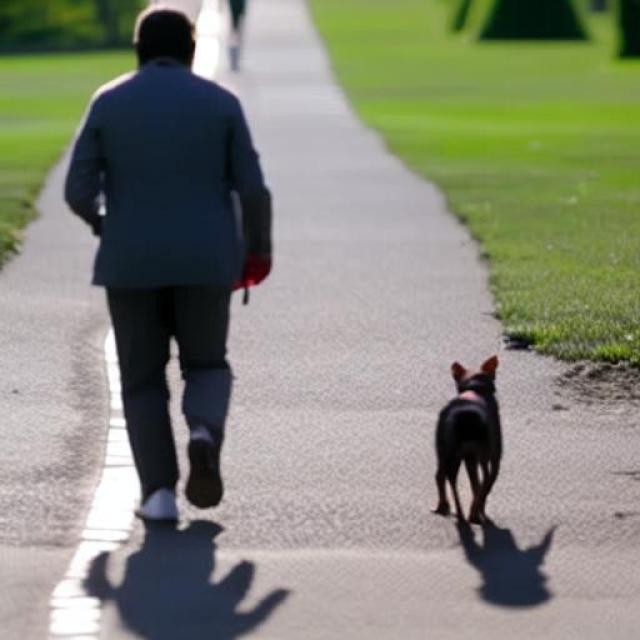Unleashed_Dog: (121, 254, 503, 530)
